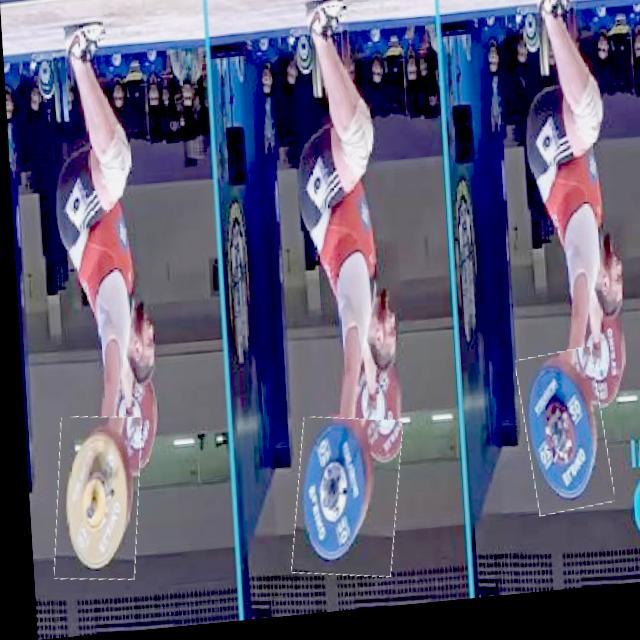barbell: (283, 420, 399, 589), (45, 415, 141, 586), (515, 359, 606, 526)
